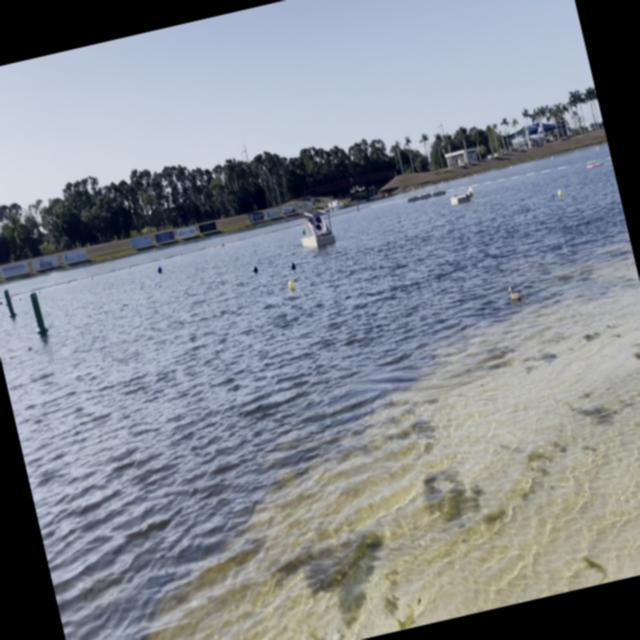buoy: (285, 279, 295, 293), (251, 262, 259, 275), (556, 188, 563, 198), (156, 264, 162, 275), (290, 260, 296, 270), (301, 227, 306, 234)
